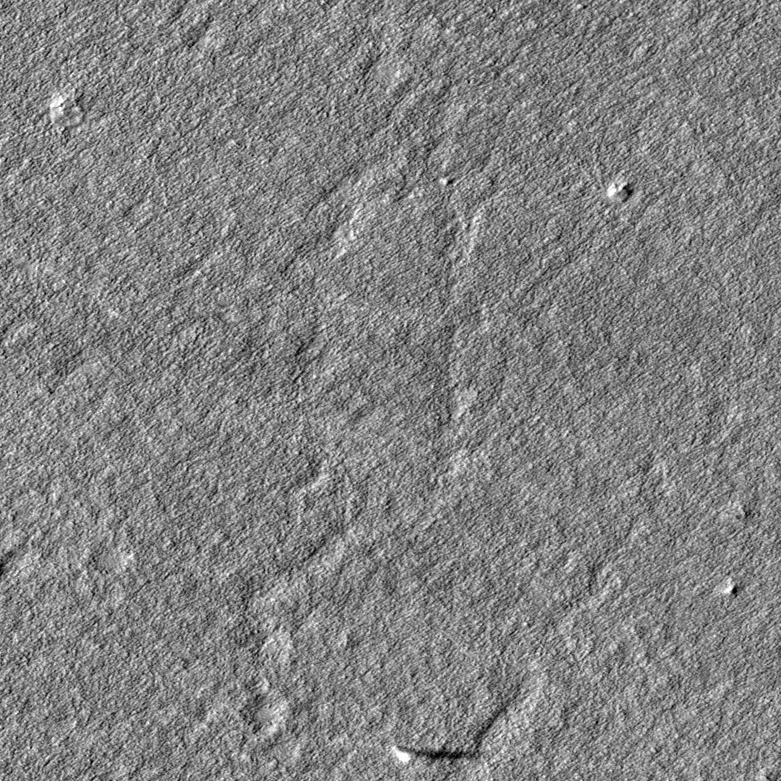dust_devil: (389, 743, 480, 767)
